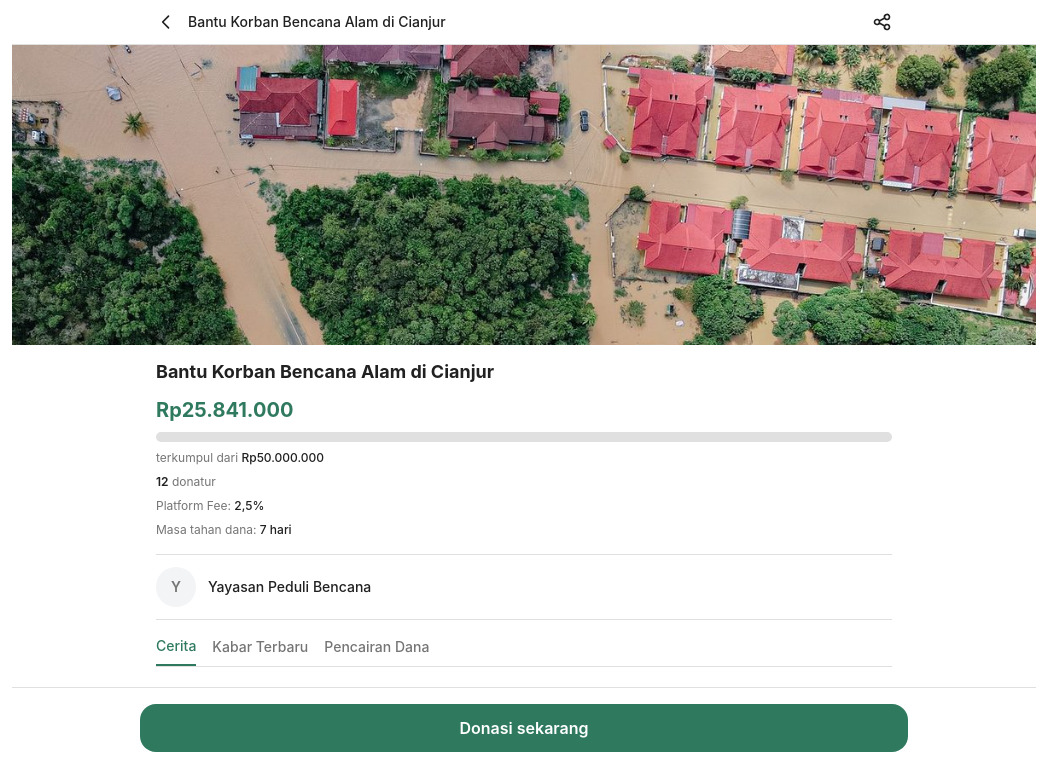
Test case: CampaignDetailView › opens the ShareModal when "Bagikan" is pressed (PRD FFI-06)
Expected: the text "Bagikan Campaign" is not shown
Click the button named "Bagikan". click: point(882, 22)
box: [872, 12, 892, 32]
(page scrolled)
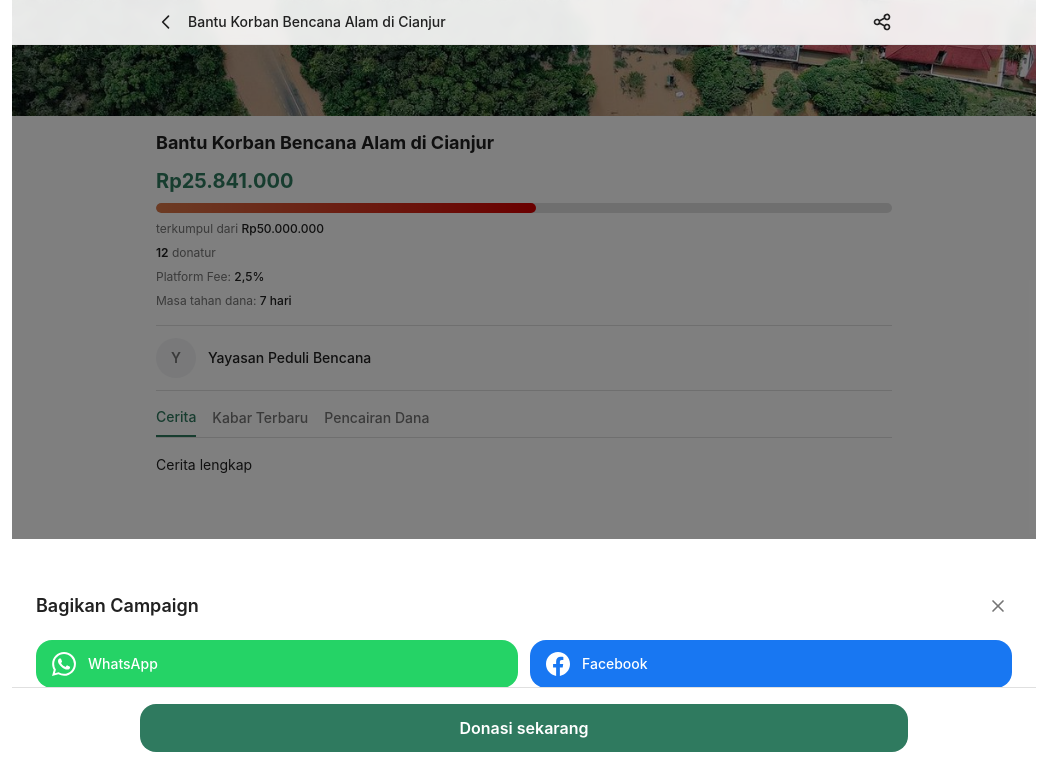
Expected: the heading "Bagikan Campaign" is shown, [36, 592, 199, 620]
Expected: the button with aria-label "Bagikan via WhatsApp" is shown, [36, 640, 518, 688]
